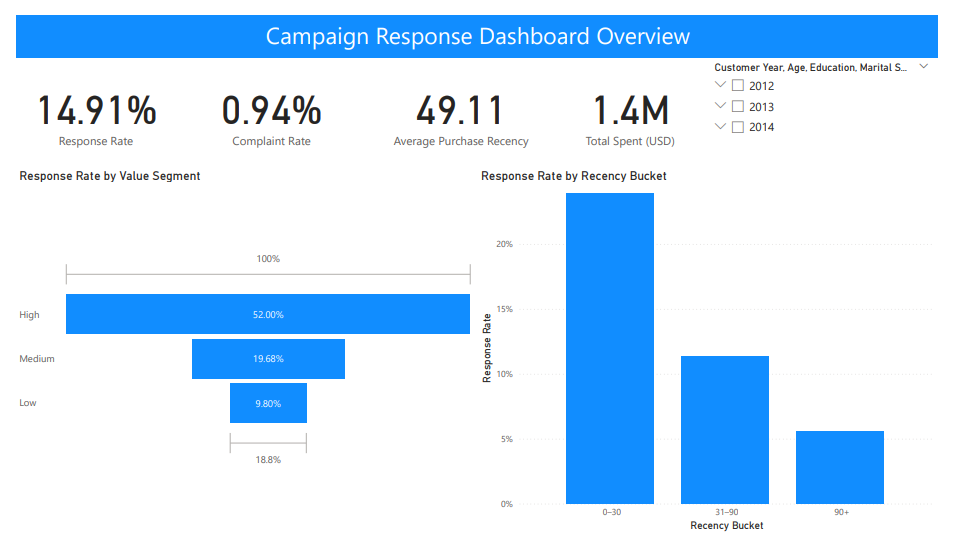

This screenshot's page, from the dashboard's own definition file:
{"tool":"powerbi","page":{"name":"Page 2","canvas":[1280,720],"ordinal":1},"visuals":[{"type":"card","fields":{"Values":["marketing_campaign.Complaint Rate"]},"box":[225.3,58.7,263.2,153.4],"z":0},{"type":"card","fields":{"Values":["marketing_campaign.Response Rate"]},"box":[1.9,58.7,223.4,153.4],"z":1000},{"type":"card","fields":{"Values":["Avg(marketing_campaign.purchase_recency)"]},"box":[488.5,58.7,261.3,153.4],"z":2000},{"type":"card","fields":{"Values":["marketing_campaign.Total Spent"]},"box":[749.8,58.7,208.3,153.4],"z":3000},{"type":"funnel","title":"Response Rate by Value Segment","fields":{"Category":["marketing_campaign.ValueSeg"],"Y":["marketing_campaign.Response Rate"]},"box":[1.9,212.1,640,507.5],"z":4000},{"type":"clusteredColumnChart","fields":{"Category":["marketing_campaign.Recency Bucket"],"Y":["marketing_campaign.Response Rate"]},"box":[641.9,212.1,638.1,507.5],"z":5000},{"type":"slicer","fields":{"Values":["marketing_campaign.Customer Year","marketing_campaign.Age","marketing_campaign.education","marketing_campaign.marital_status","marketing_campaign.income","marketing_campaign.Has Children"]},"box":[958.1,58.7,321.9,153.4],"z":6000},{"type":"textbox","box":[1.9,0,1278.1,58.7],"z":7000}]}

Visuals, with their boxes in screenshot pixels (x1, y1, x2, y2), scaled from the page's 1280x720 canvas onto the 953x549 screenshot:
card - marketing_campaign.Complaint Rate: select_region(168, 45, 364, 162)
card - marketing_campaign.Response Rate: select_region(1, 45, 168, 162)
card - Avg(marketing_campaign.purchase_recency): select_region(364, 45, 558, 162)
card - marketing_campaign.Total Spent: select_region(558, 45, 713, 162)
"Response Rate by Value Segment" funnel: select_region(1, 162, 478, 548)
clusteredColumnChart - marketing_campaign.Recency Bucket x marketing_campaign.Response Rate: select_region(478, 162, 952, 548)
slicer - marketing_campaign.Customer Year x marketing_campaign.Age: select_region(713, 45, 952, 162)
textbox: select_region(1, 0, 952, 45)
